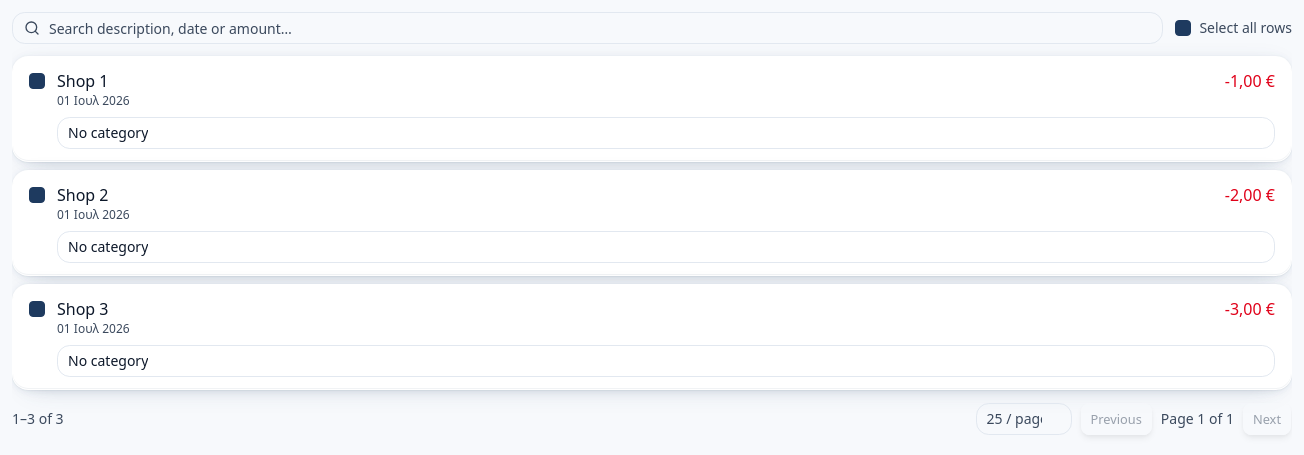
Scenario: ImportPreviewRows › says so when nothing matches
Type "zzz" into the search field named "search rows".
click(588, 28); type("zzz")  # box top-left (12, 12), bottom-right (1163, 44)
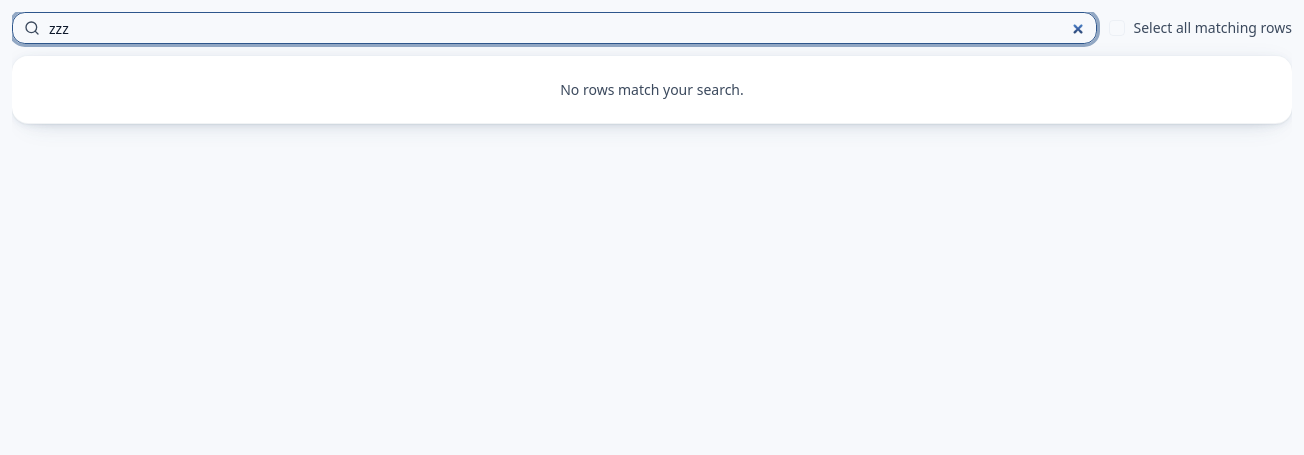
expect the text "No rows match your search." is shown: met, box top-left (12, 56), bottom-right (1292, 124)
